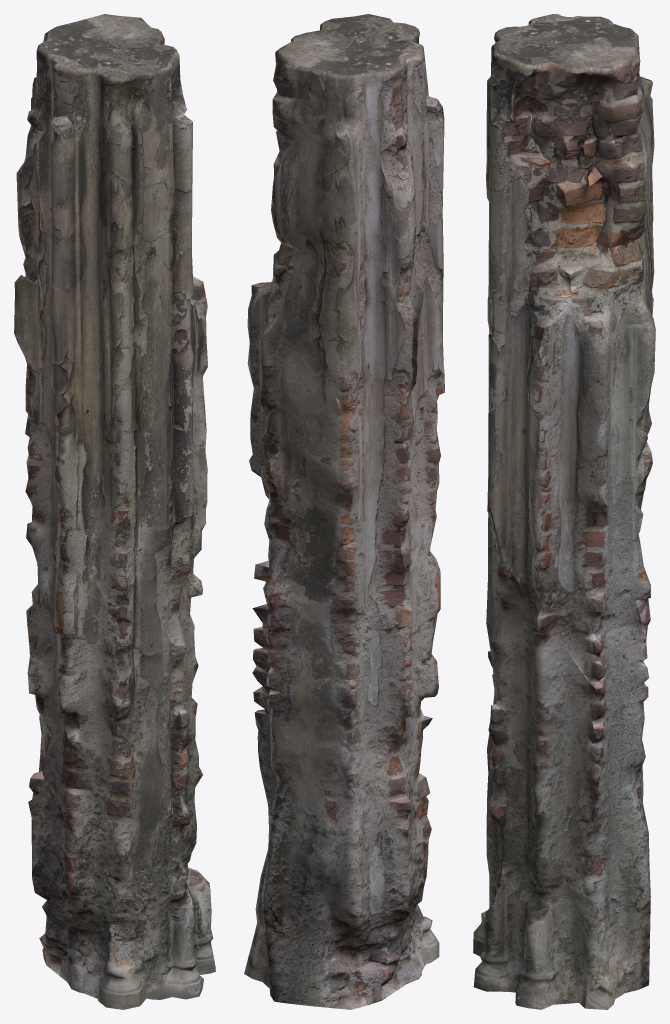
The model's file is sm_ChapelColumn_02_03.fbx.
3 views of the same model, side by side, from view 1: azimuth 30°, elevation 25°; view 2: azimuth 150°, elevation 25°; view 3: azimuth 270°, elevation 25° (orthographic).
Parts seen in each view (by area): view 1: sm_ChapelColumn_02_03_LOD0; view 2: sm_ChapelColumn_02_03_LOD0; view 3: sm_ChapelColumn_02_03_LOD0.
Part boxes in pixels (x1,y1,x2,y2): sm_ChapelColumn_02_03_LOD0: (14, 14, 215, 1009); sm_ChapelColumn_02_03_LOD0: (244, 14, 444, 1009); sm_ChapelColumn_02_03_LOD0: (473, 14, 655, 1009).
Bounding box in the file's own units: 75.2 × 69.86 × 390.
